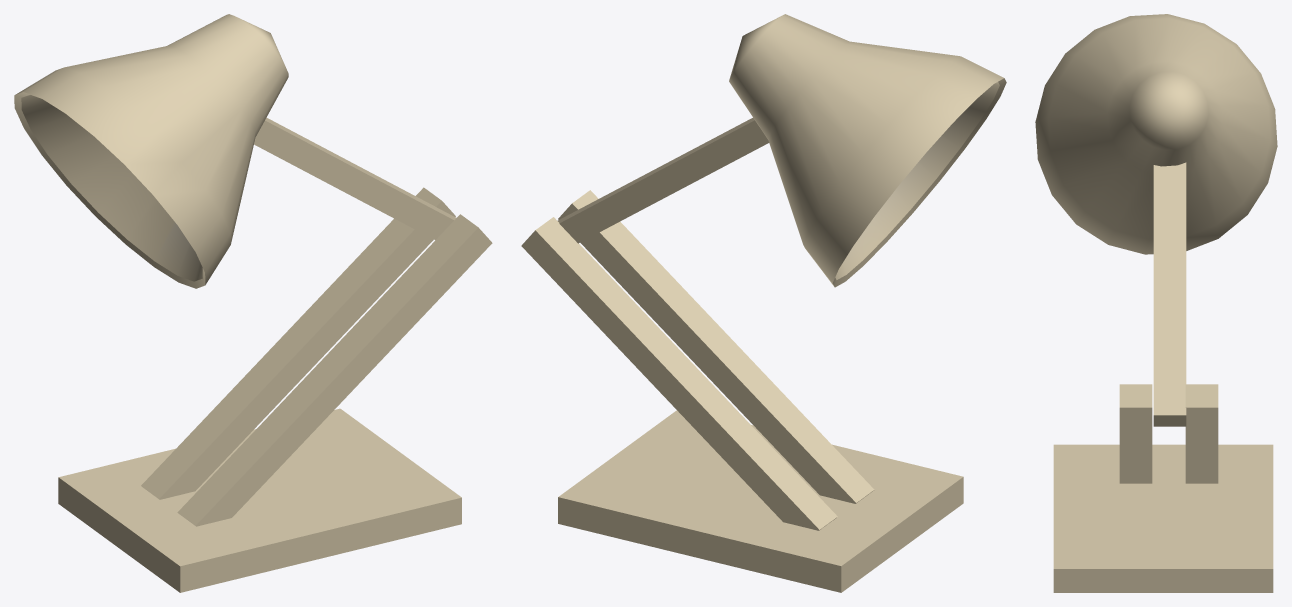
Rendered from deskLamp.fbx.
3 views of the same model, side by side, from view 1: azimuth 30°, elevation 25°; view 2: azimuth 150°, elevation 25°; view 3: azimuth 270°, elevation 25° (orthographic). The views are drawn at different scales.
Visible parts, largest first — view 1: largeenvironment:luxo2_lamp3; view 2: largeenvironment:luxo2_lamp3; view 3: largeenvironment:luxo2_lamp3.
Part boxes in pixels (bbox=[...]): largeenvironment:luxo2_lamp3: bbox=[14, 14, 492, 592]; largeenvironment:luxo2_lamp3: bbox=[521, 14, 1006, 592]; largeenvironment:luxo2_lamp3: bbox=[1035, 14, 1277, 592].
Size of the model in its own units: 3.18 by 3.52 by 1.72.
